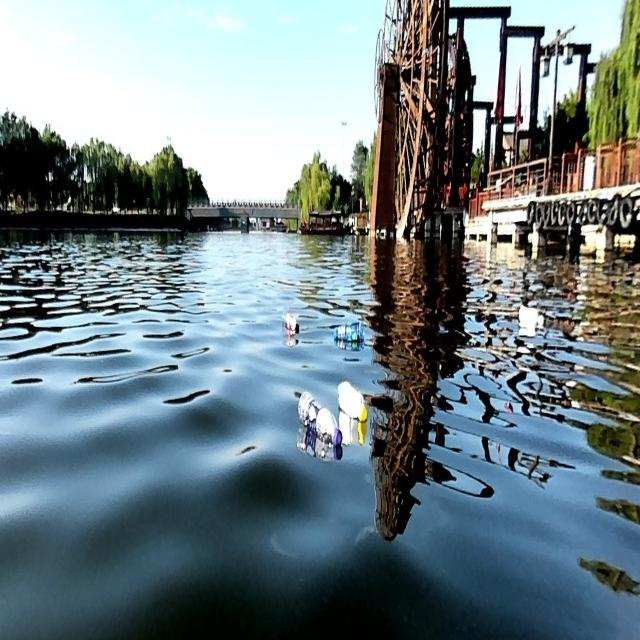bottle: (296, 387, 344, 446), (334, 377, 368, 424), (332, 319, 364, 345), (278, 305, 300, 337), (516, 302, 544, 325)
